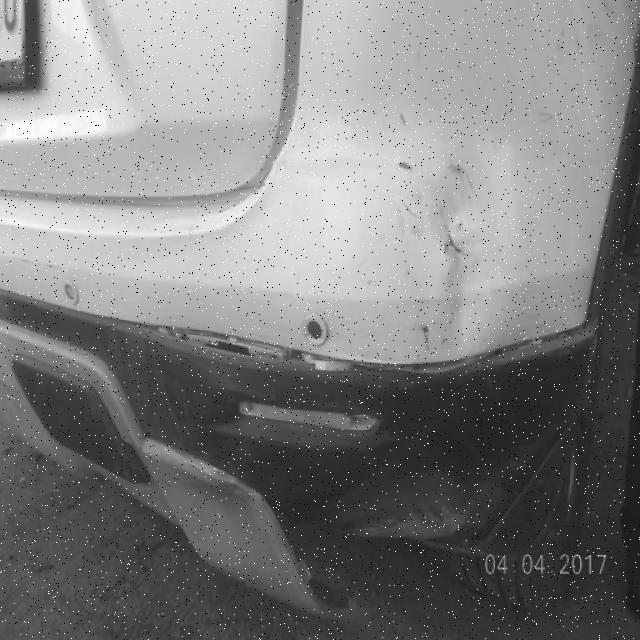car damage: (112, 317, 598, 380), (318, 466, 485, 539), (443, 260, 484, 355), (443, 150, 485, 201), (437, 223, 471, 258), (395, 191, 424, 228), (393, 156, 421, 180), (398, 108, 413, 132)
